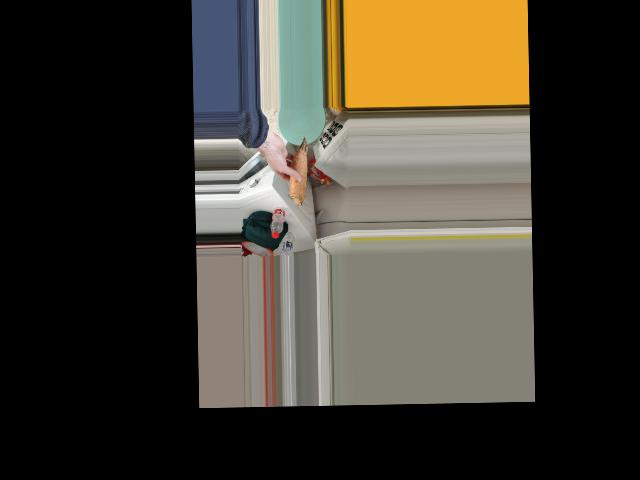sweet_potato: (286, 141, 305, 208)
